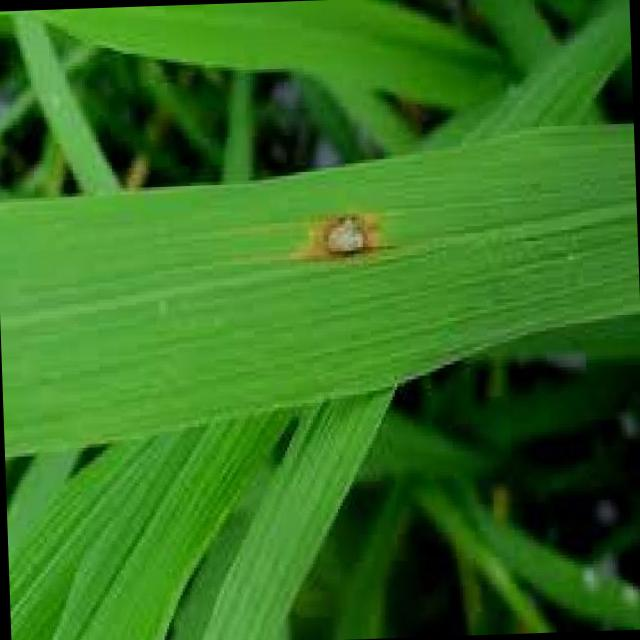Rice_Blast: (294, 172, 397, 268)
